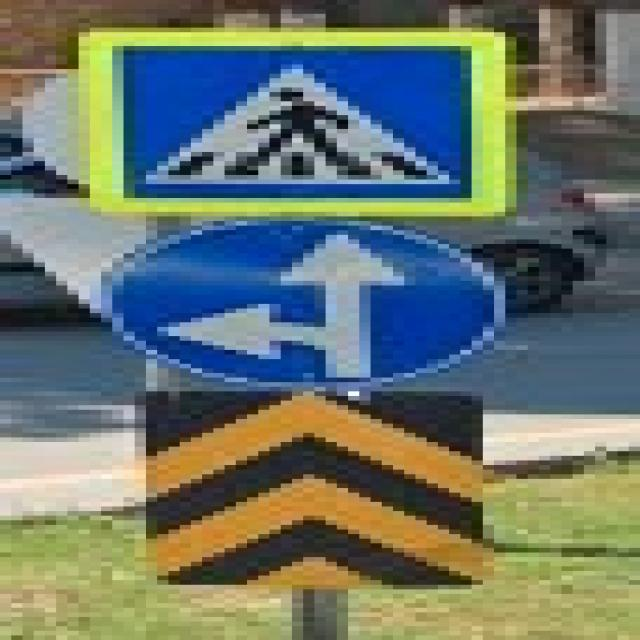Straight or Left: (97, 217, 501, 388)
